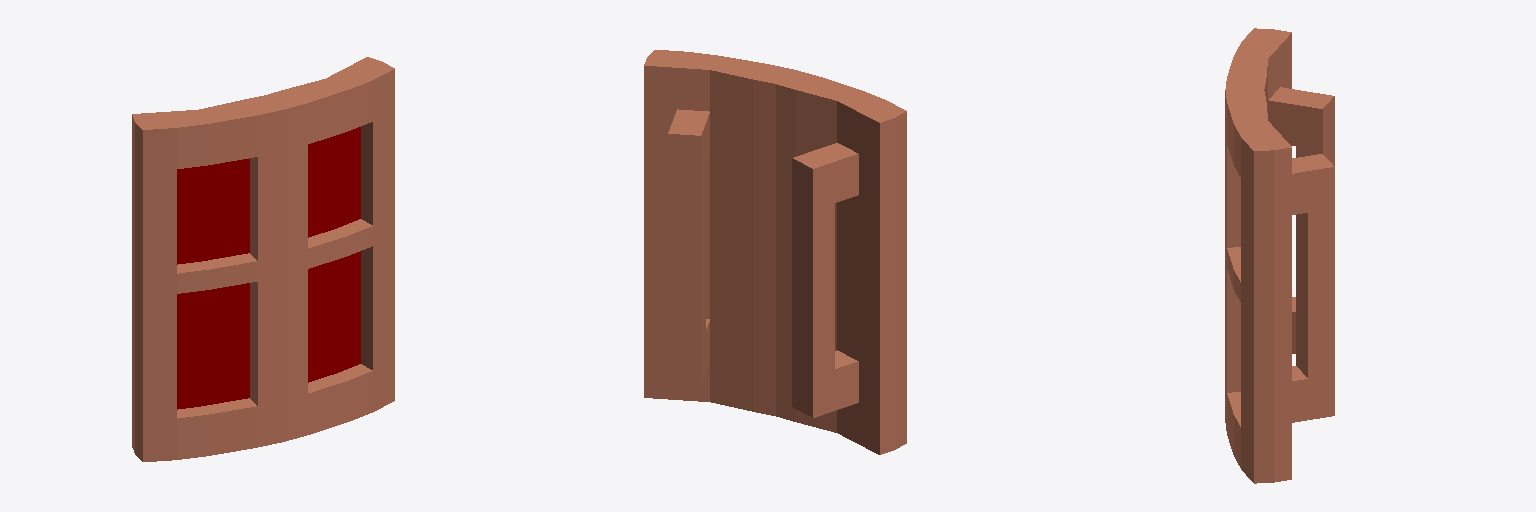
File: shielde.obj
The picture shows the model from 3 angles: view 1: azimuth 30°, elevation 25°; view 2: azimuth 150°, elevation 25°; view 3: azimuth 270°, elevation 25°; orthographic projection.
Parts seen in each view (by area): view 1: Cube; view 2: Cube; view 3: Cube.
Part boxes in pixels (x1,y1,x2,y2): Cube: (132,57,394,461); Cube: (644,50,906,454); Cube: (1225,28,1334,483).
Size of the model in its own units: 2.56 by 3.23 by 0.9628.